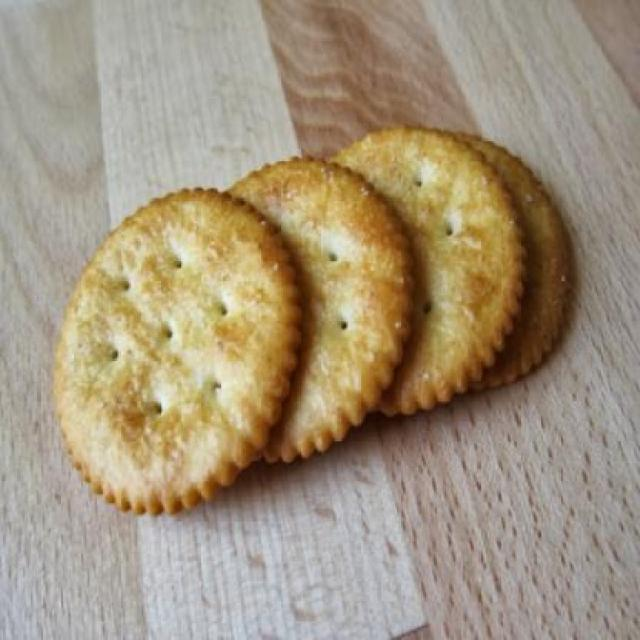Ritz cracker packaged: (50, 124, 572, 512)
